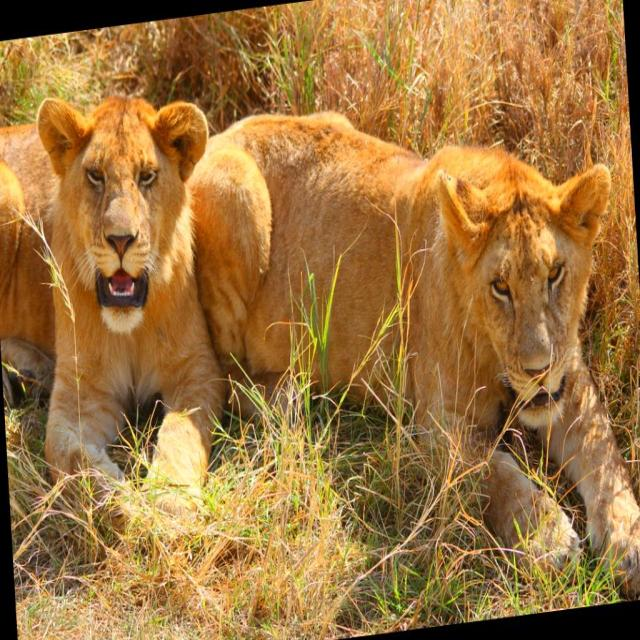Lion: (182, 65, 640, 639), (0, 77, 234, 548)
